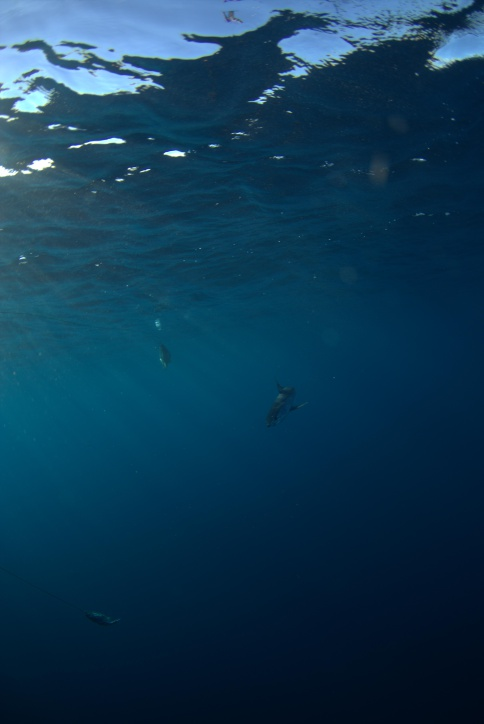Mako: (239, 371, 315, 438)
